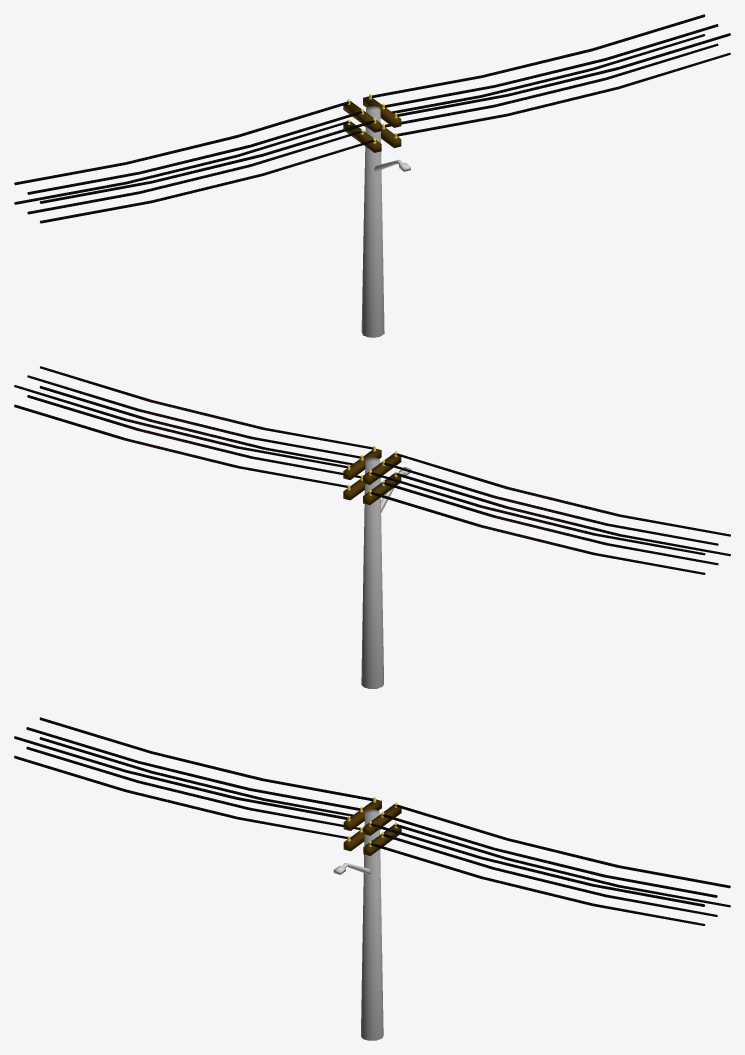
Rendered from PosteDeLuzFiosAmbosLadosLOD0.fbx.
The picture shows the model from 3 angles, top to bottom: view 1: azimuth 30°, elevation 25°; view 2: azimuth 150°, elevation 25°; view 3: azimuth 330°, elevation 25°; orthographic projection.
Visible parts, largest first — view 1: PosteDeLuzFiosAmbosLadosLOD0; view 2: PosteDeLuzFiosAmbosLadosLOD0; view 3: PosteDeLuzFiosAmbosLadosLOD0.
Boxes of the visible parts, x1,y1,x2,y2 form: PosteDeLuzFiosAmbosLadosLOD0: [14, 14, 730, 337]; PosteDeLuzFiosAmbosLadosLOD0: [14, 366, 730, 688]; PosteDeLuzFiosAmbosLadosLOD0: [14, 717, 730, 1040].
Size of the model in its own units: 2340 by 736 by 299.
